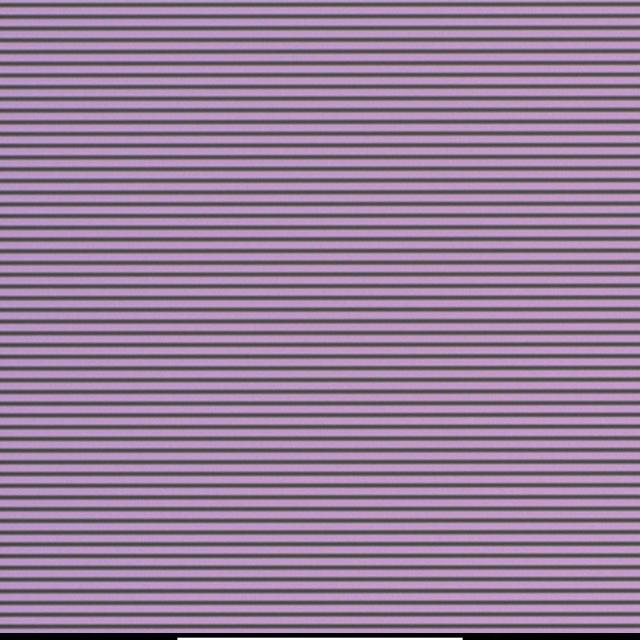nonvisual: (304, 320, 311, 330)
